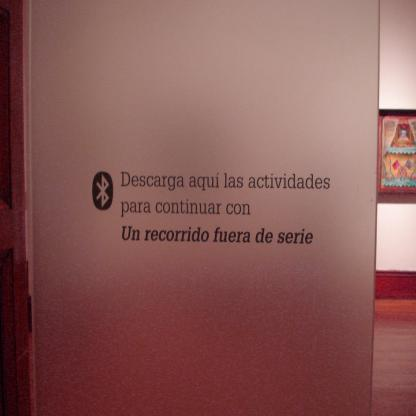door: (0, 0, 32, 415)
